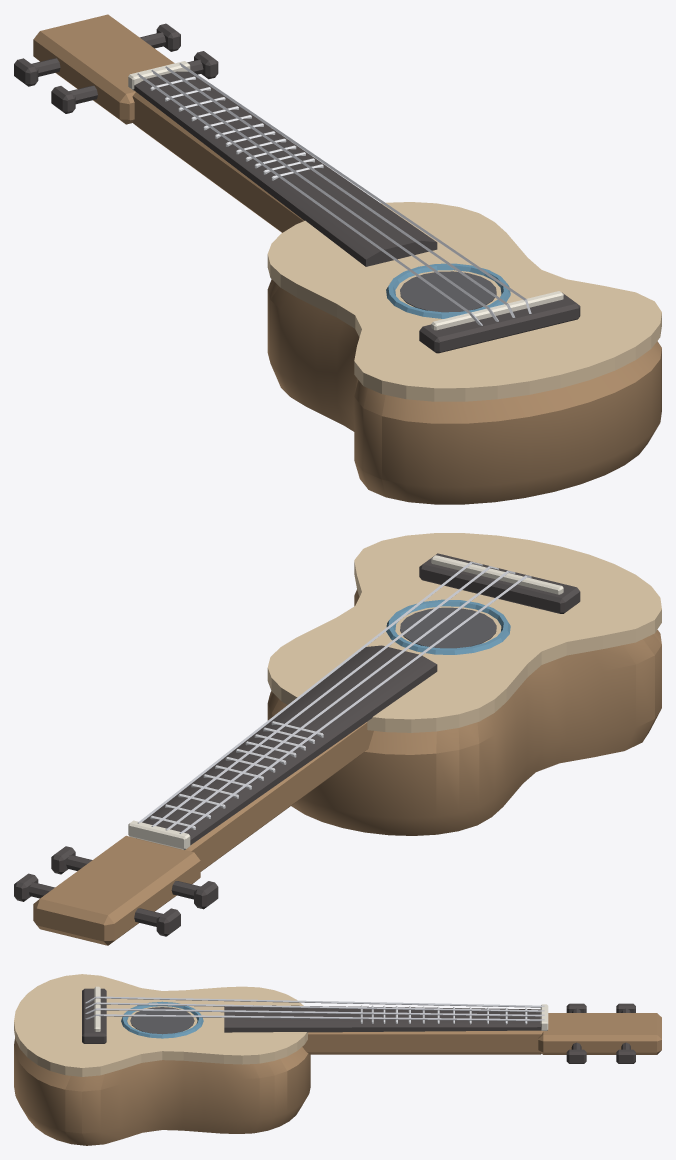
File: orchestra-and-band-instruments-ukulele-1f367273__39287.glb
3 views of the same model, one above another, from view 1: azimuth 30°, elevation 25°; view 2: azimuth 150°, elevation 25°; view 3: azimuth 270°, elevation 25° (orthographic). The views are drawn at different scales.
Parts seen in each view (by area): view 1: ukulele; view 2: ukulele; view 3: ukulele.
Part boxes in pixels (left/top/right/bottom): ukulele: left=14, top=14, right=661, bottom=504; ukulele: left=14, top=533, right=661, bottom=945; ukulele: left=14, top=974, right=661, bottom=1145.
Size of the model in its own units: 0.1798 by 0.086 by 0.524.
